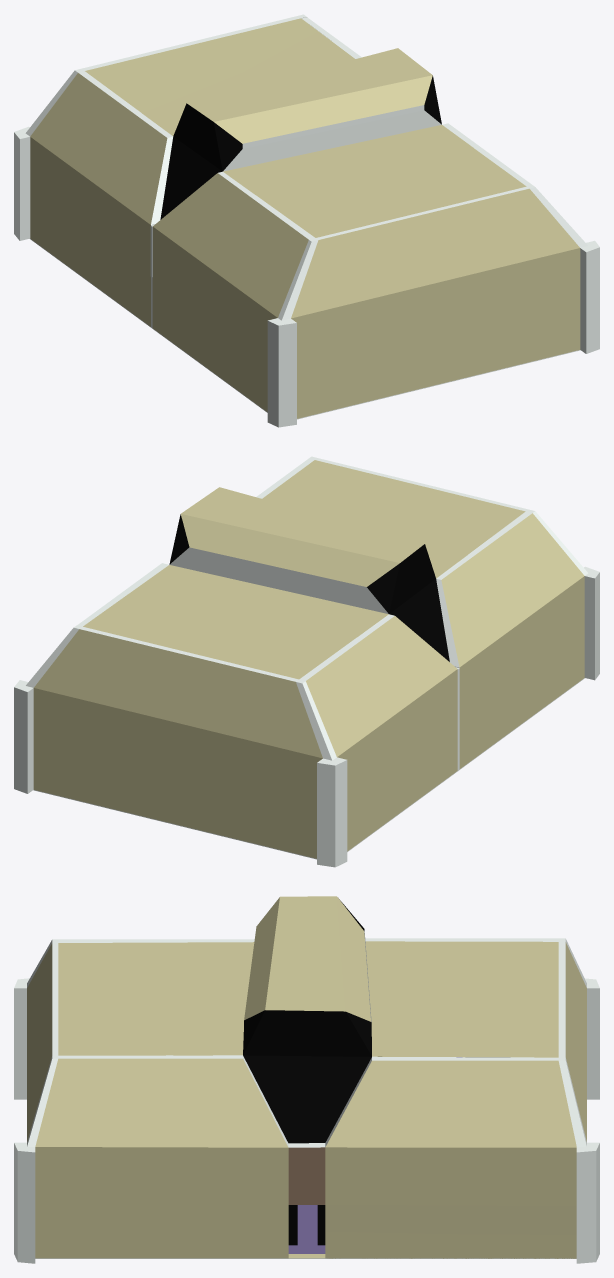
Rendered from governmentbuilding.fbx.
The picture shows the model from 3 angles, top to bottom: view 1: azimuth 30°, elevation 25°; view 2: azimuth 150°, elevation 25°; view 3: azimuth 270°, elevation 25°; orthographic projection. The views are drawn at different scales.
Parts seen in each view (by area): view 1: Cube; view 2: Cube; view 3: Cube.
Part boxes in pixels (box(x1,y1,x2,y2)): Cube: box(14, 14, 599, 427); Cube: box(14, 456, 599, 867); Cube: box(14, 896, 599, 1263).
Size of the model in its own units: 20152 by 12057 by 28574.
